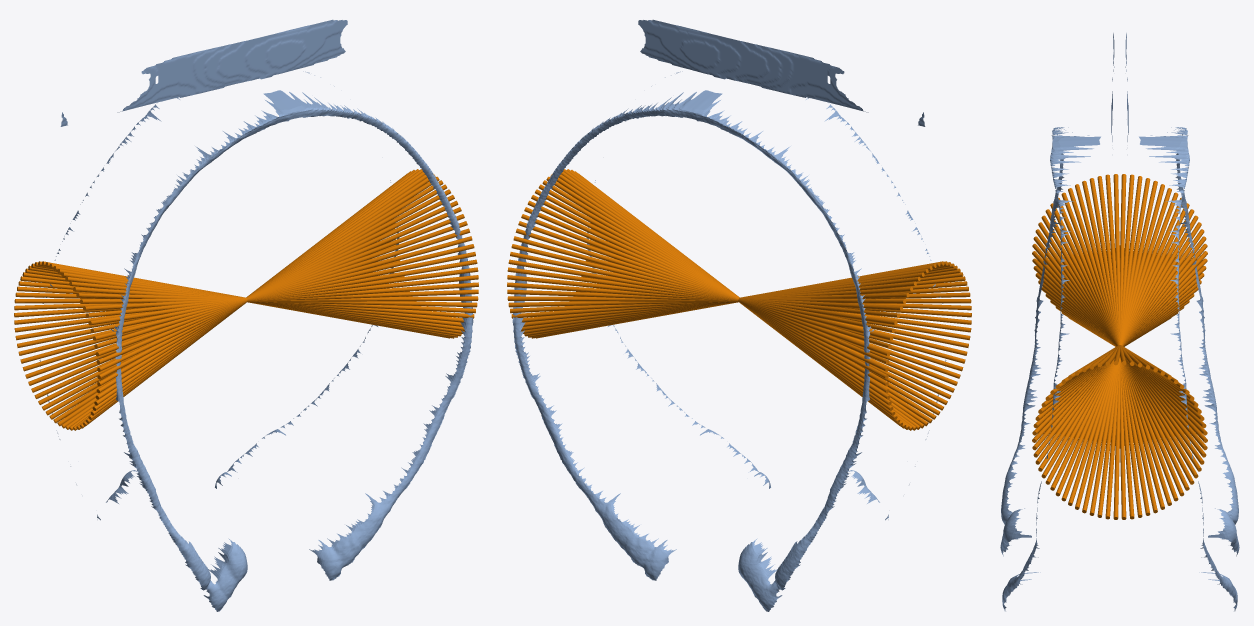
Rendered from A50035007-6_5995-37-514-6319_DigitalTwin.glb.
3 views of the same model, side by side, from view 1: azimuth 30°, elevation 25°; view 2: azimuth 150°, elevation 25°; view 3: azimuth 270°, elevation 25° (orthographic).
Visible parts, largest first — view 1: world; view 2: world; view 3: world.
Part boxes in pixels (x1=…): world: x1=14, y1=19, x2=478, y2=611; world: x1=507, y1=19, x2=971, y2=611; world: x1=1000, y1=33, x2=1239, y2=611.
Bounding box in the file's own units: 396 × 509 × 212.
